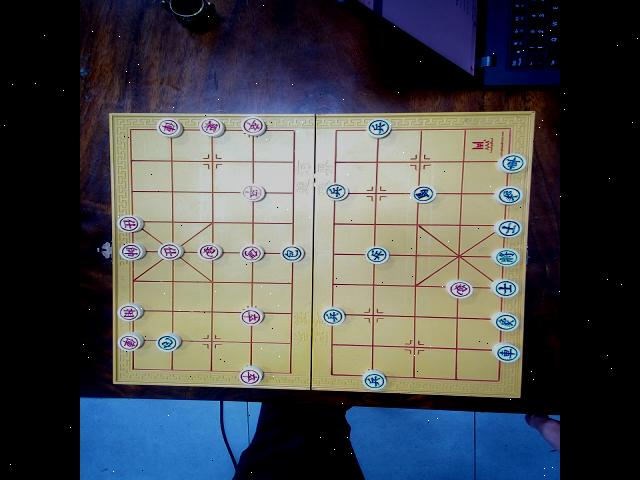piece: (498, 152, 528, 172), (492, 246, 520, 266), (491, 310, 519, 330), (493, 342, 521, 362), (198, 116, 226, 136), (446, 278, 474, 298), (362, 368, 388, 389), (494, 218, 522, 237), (238, 364, 264, 384), (156, 116, 182, 136), (156, 331, 182, 351), (116, 214, 144, 232), (118, 242, 146, 260), (495, 185, 523, 203), (492, 278, 520, 296), (367, 117, 392, 137), (118, 301, 144, 320), (118, 331, 144, 350), (240, 243, 266, 261), (364, 245, 390, 263), (240, 116, 266, 134), (196, 242, 222, 260), (411, 184, 436, 202), (322, 306, 346, 324), (240, 306, 264, 324), (242, 183, 266, 201), (159, 241, 183, 259), (280, 244, 304, 262), (324, 182, 348, 199)
